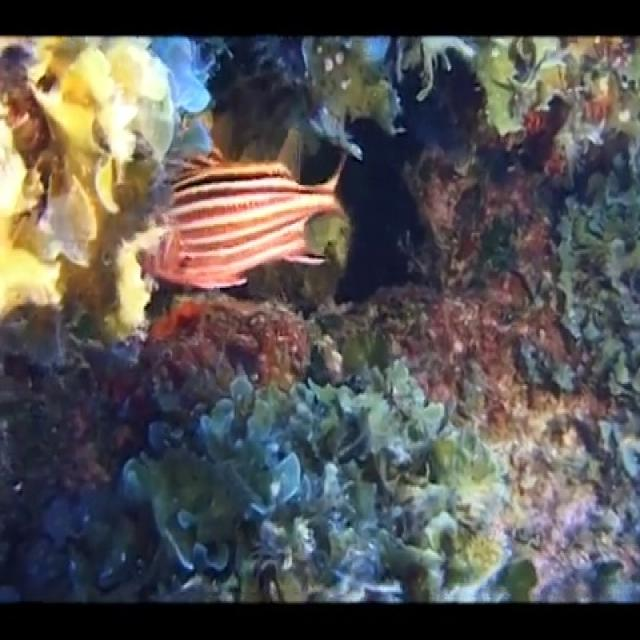Asker Baligi: (137, 142, 352, 294)
